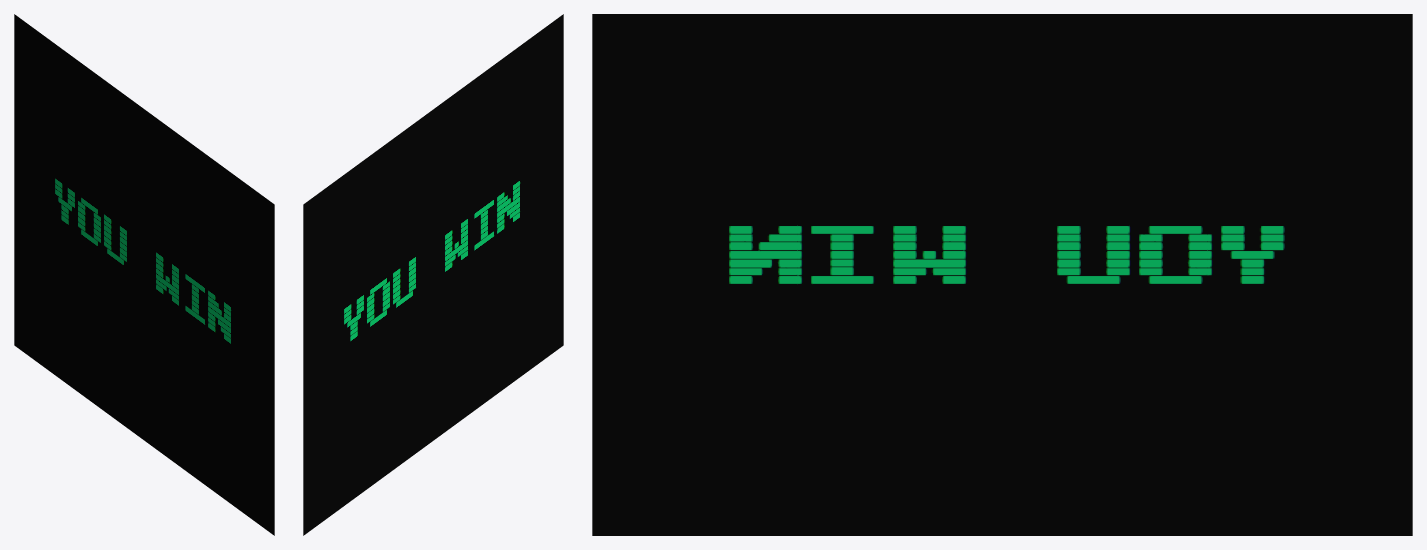
File: YouWin.obj
3 renders of one model, left to right at view 1: azimuth 30°, elevation 25°; view 2: azimuth 150°, elevation 25°; view 3: azimuth 270°, elevation 25°, orthographic. The views are drawn at different scales.
Visible parts, largest first — view 1: Floor_Plane001; view 2: Floor_Plane001; view 3: Floor_Plane001.
Part boxes in pixels (bbox=[...]): Floor_Plane001: bbox=[14, 14, 274, 535]; Floor_Plane001: bbox=[303, 14, 563, 535]; Floor_Plane001: bbox=[592, 14, 1412, 535].
Bounding box in the file's own units: 0 × 1.03 × 1.47.
Materials: 1 (1 with a texture image).
